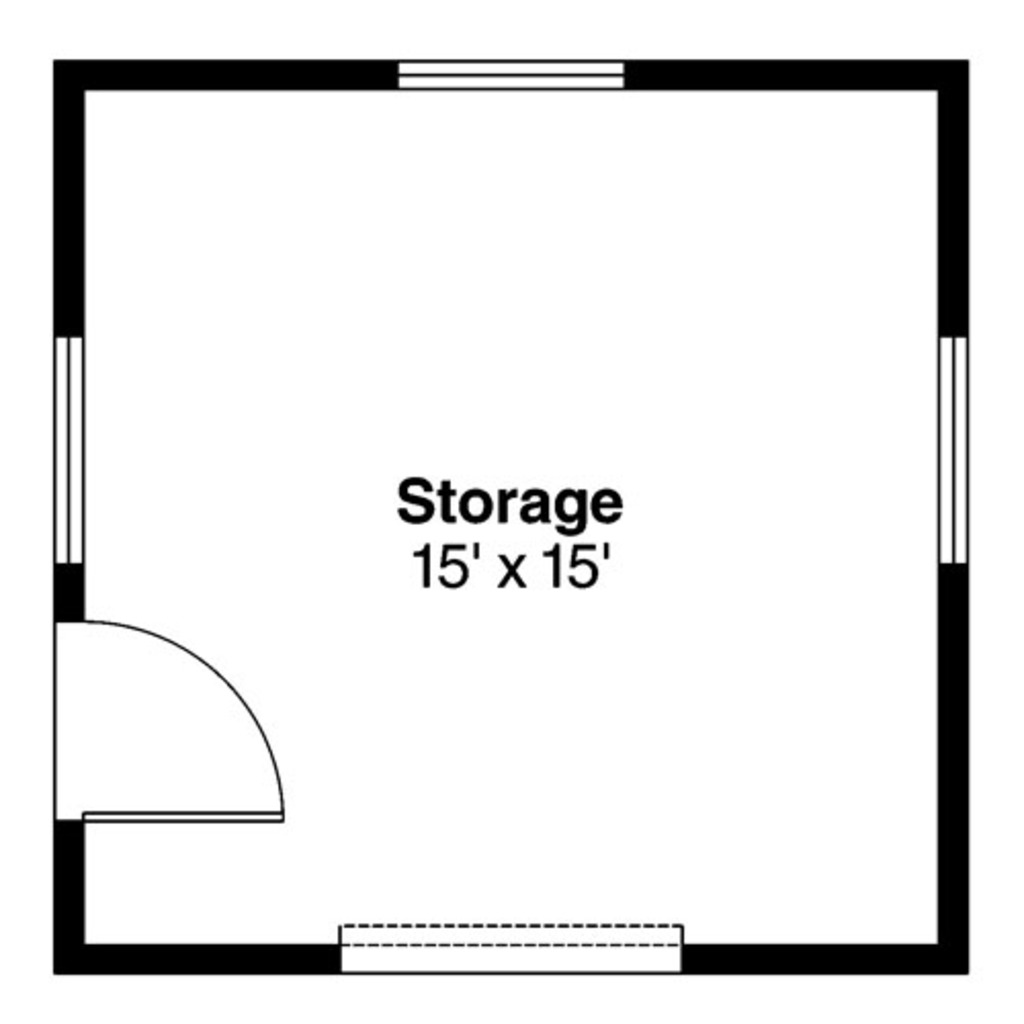door: (59, 616, 292, 828)
window: (53, 336, 95, 563), (934, 342, 973, 563), (394, 58, 627, 89)
